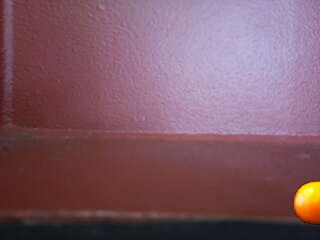Orange: (291, 178, 320, 227)
